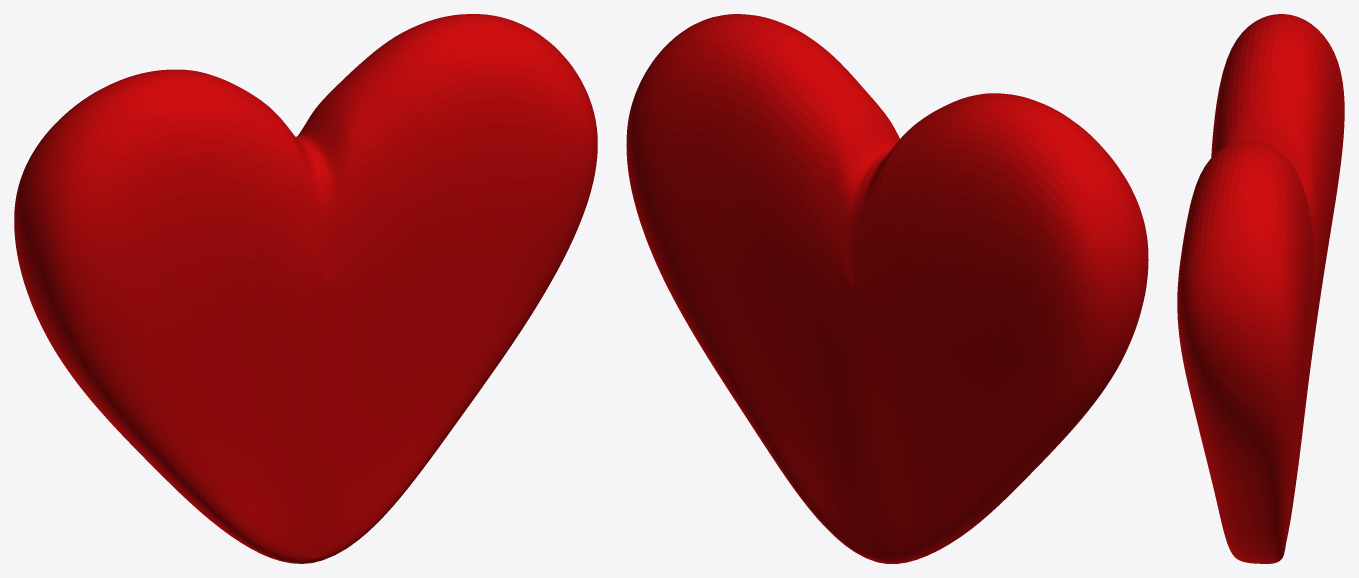
Rendered from heart.obj.
3 views of the same model, side by side, from view 1: azimuth 30°, elevation 25°; view 2: azimuth 150°, elevation 25°; view 3: azimuth 270°, elevation 25° (orthographic). The views are drawn at different scales.
Parts seen in each view (by area): view 1: heart_Cube; view 2: heart_Cube; view 3: heart_Cube.
Part boxes in pixels (x1,y1,x2,y2): heart_Cube: (14, 14, 597, 563); heart_Cube: (626, 14, 1148, 563); heart_Cube: (1177, 14, 1344, 563).
Bounding box in the file's own units: 2.61 × 2.37 × 0.7699.
